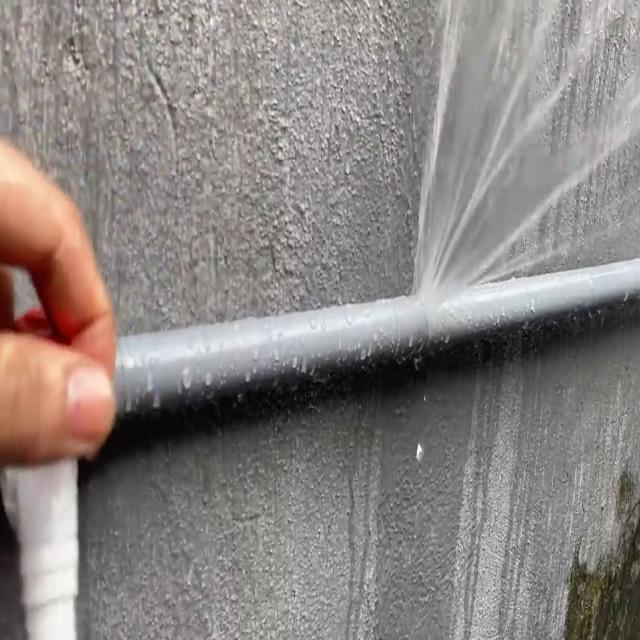leak: (406, 0, 640, 299)
